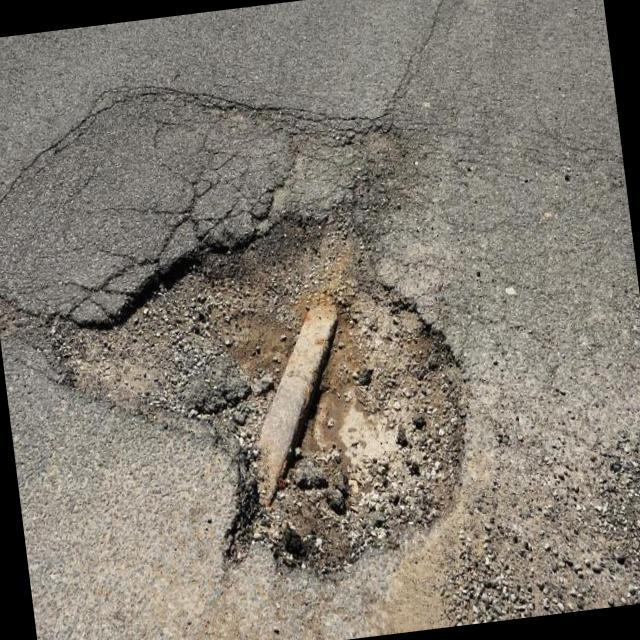Pothole: (44, 208, 466, 573)
